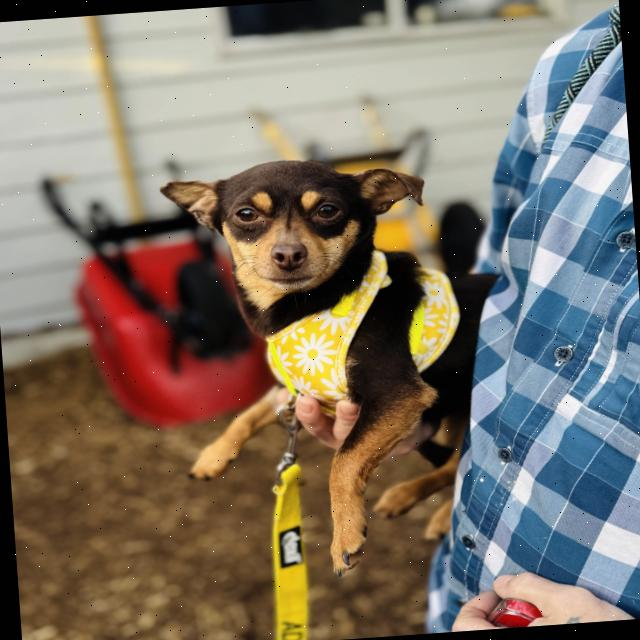chihuahua_dog: (147, 148, 440, 326)
